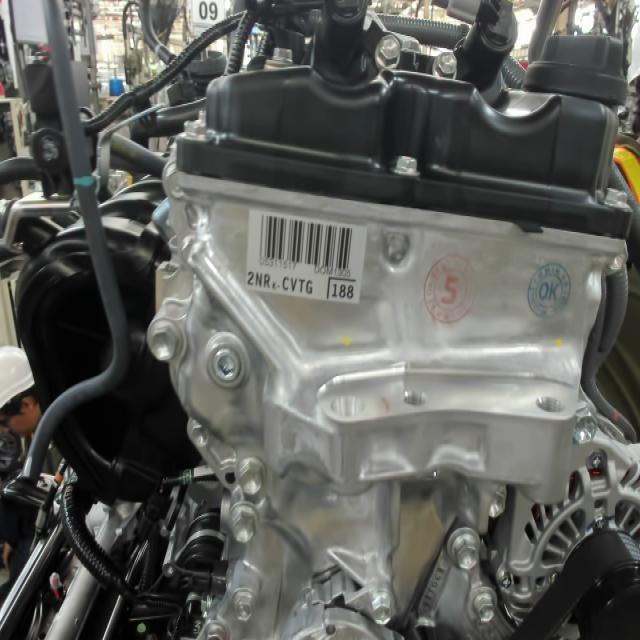Engine Assy-188: (324, 275, 361, 309)
Hose Canister-HJ: (71, 172, 102, 191)
